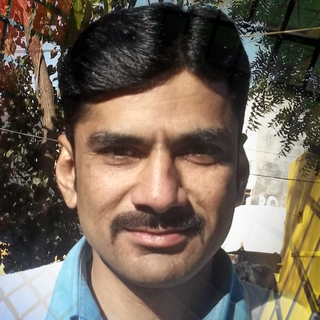eye: (93, 142, 143, 166), (176, 142, 224, 164)
